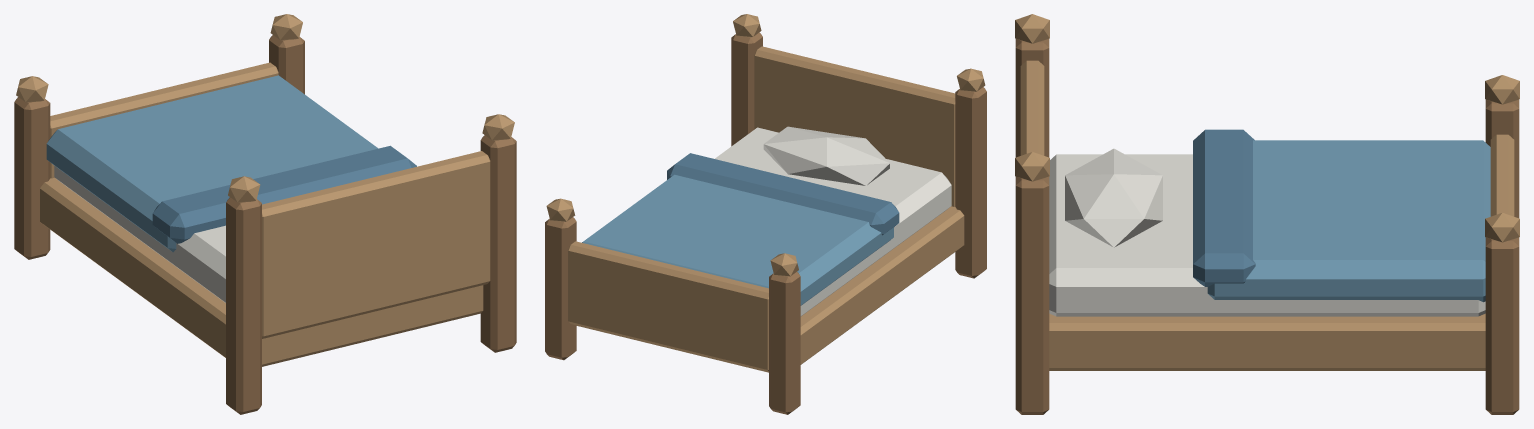
The model's file is BUILD0030_WoodenSingleBed.fbx.
The picture shows the model from 3 angles, left to right: view 1: azimuth 30°, elevation 25°; view 2: azimuth 150°, elevation 25°; view 3: azimuth 270°, elevation 25°; orthographic projection. The views are drawn at different scales.
Visible parts, largest first — view 1: BUILD0030_WoodenSingleBed; view 2: BUILD0030_WoodenSingleBed; view 3: BUILD0030_WoodenSingleBed.
Part boxes in pixels (x1,y1,x2,y2): BUILD0030_WoodenSingleBed: [14, 14, 516, 414]; BUILD0030_WoodenSingleBed: [545, 14, 986, 414]; BUILD0030_WoodenSingleBed: [1015, 14, 1519, 414].
Size of the model in its own units: 1.51 by 1.19 by 2.1.
